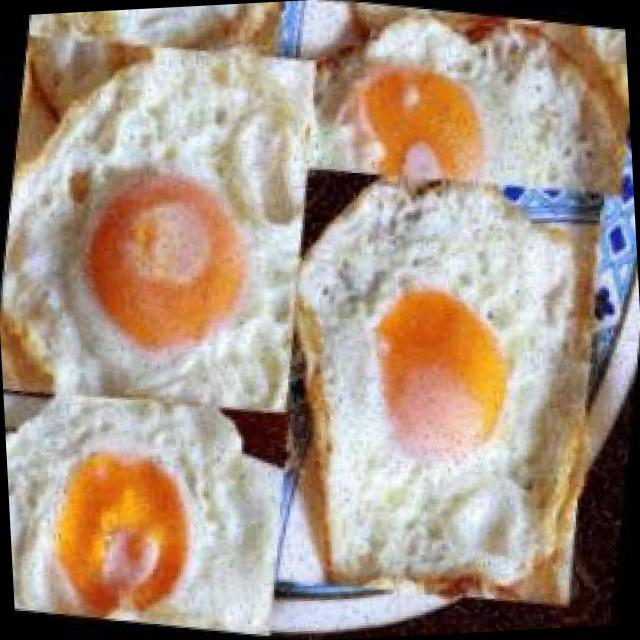fried_eggs: (240, 124, 638, 628), (0, 14, 339, 431), (250, 0, 634, 218), (2, 366, 304, 640)
